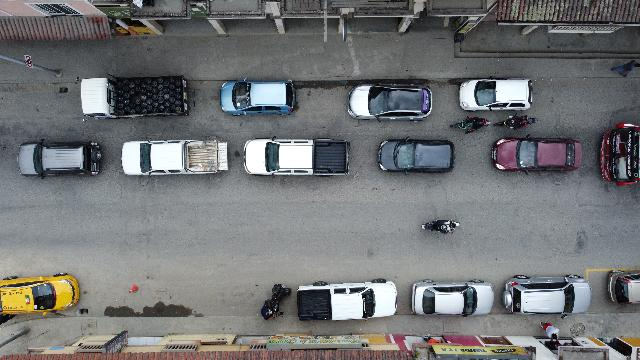Vehiculo: (77, 74, 196, 120), (244, 134, 352, 180), (296, 278, 402, 322), (120, 138, 232, 178), (502, 272, 592, 320), (0, 274, 80, 322), (372, 133, 458, 177), (409, 276, 497, 318), (19, 138, 106, 180), (492, 135, 582, 173), (348, 84, 432, 122), (220, 79, 296, 115), (460, 79, 532, 111), (607, 270, 639, 305)
